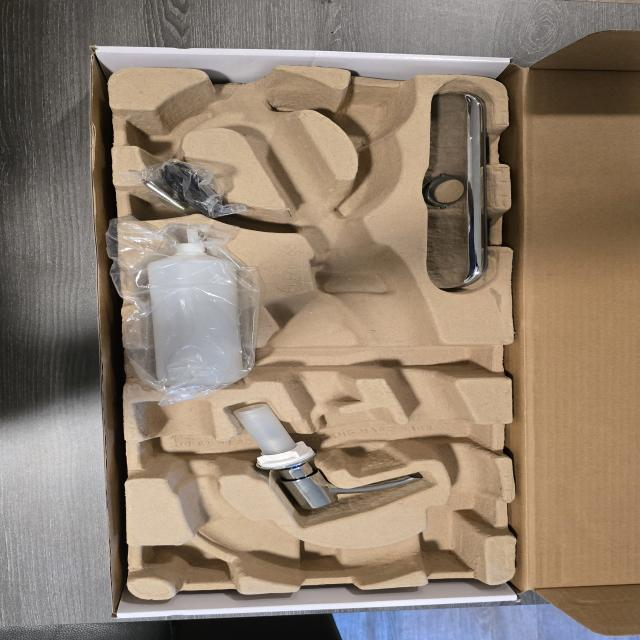1m: (137, 70, 502, 581)
2: (232, 404, 421, 512)
3: (147, 227, 240, 387)
4: (420, 93, 487, 289)
5m: (334, 92, 405, 144)
6m: (127, 90, 226, 157)
7: (123, 156, 249, 218)
